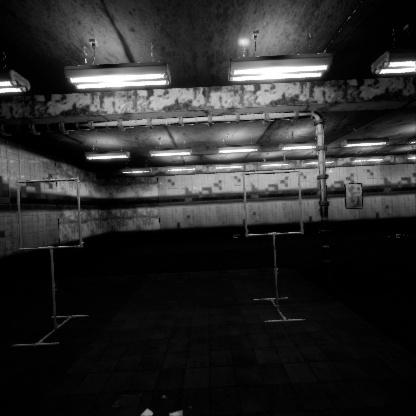gate: (17, 164, 88, 238), (242, 178, 308, 246)
